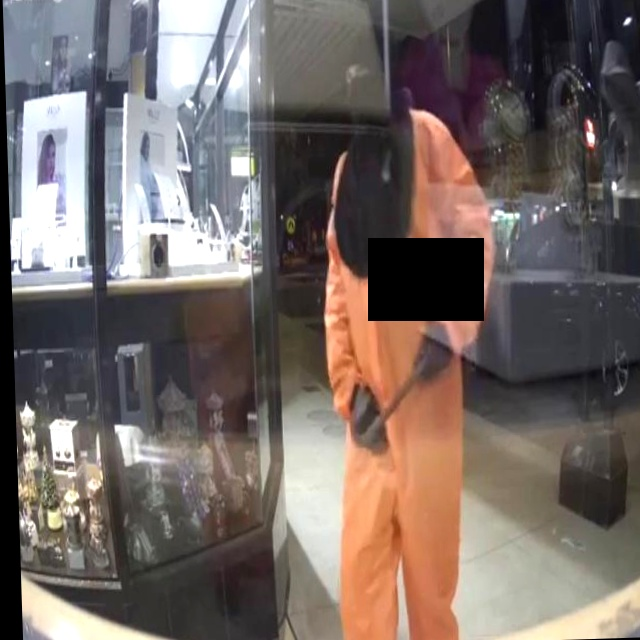gun: (345, 329, 445, 458)
